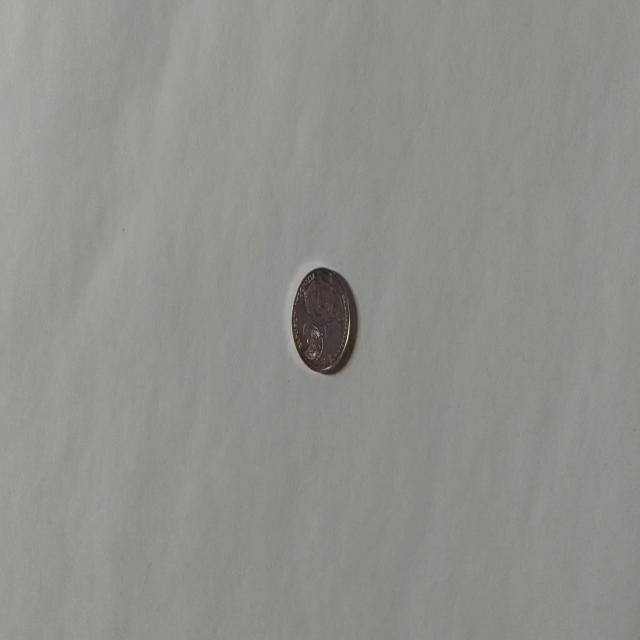dua ratus rupiah: (290, 265, 352, 373)
